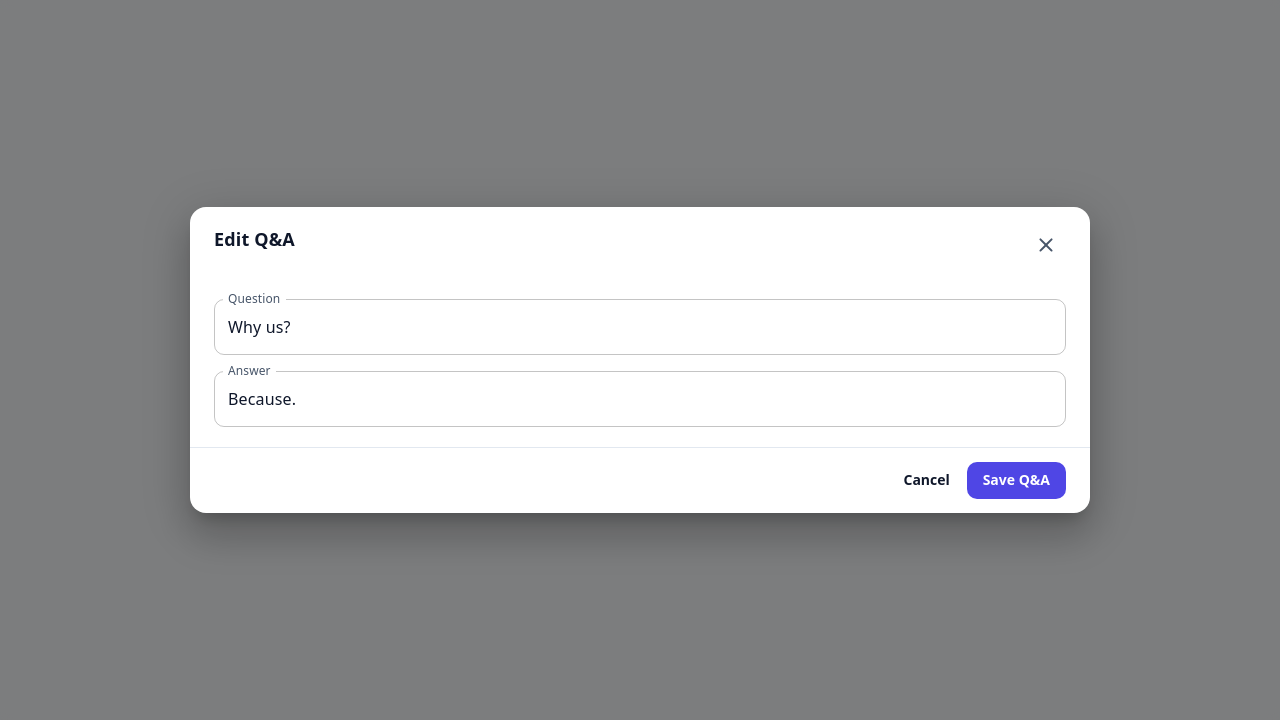
Test case: Q&A save › a failed save shows an error and keeps the dialog open
Click the button "Save Q&A": (1016,481) x1=967 y1=462 x2=1066 y2=499
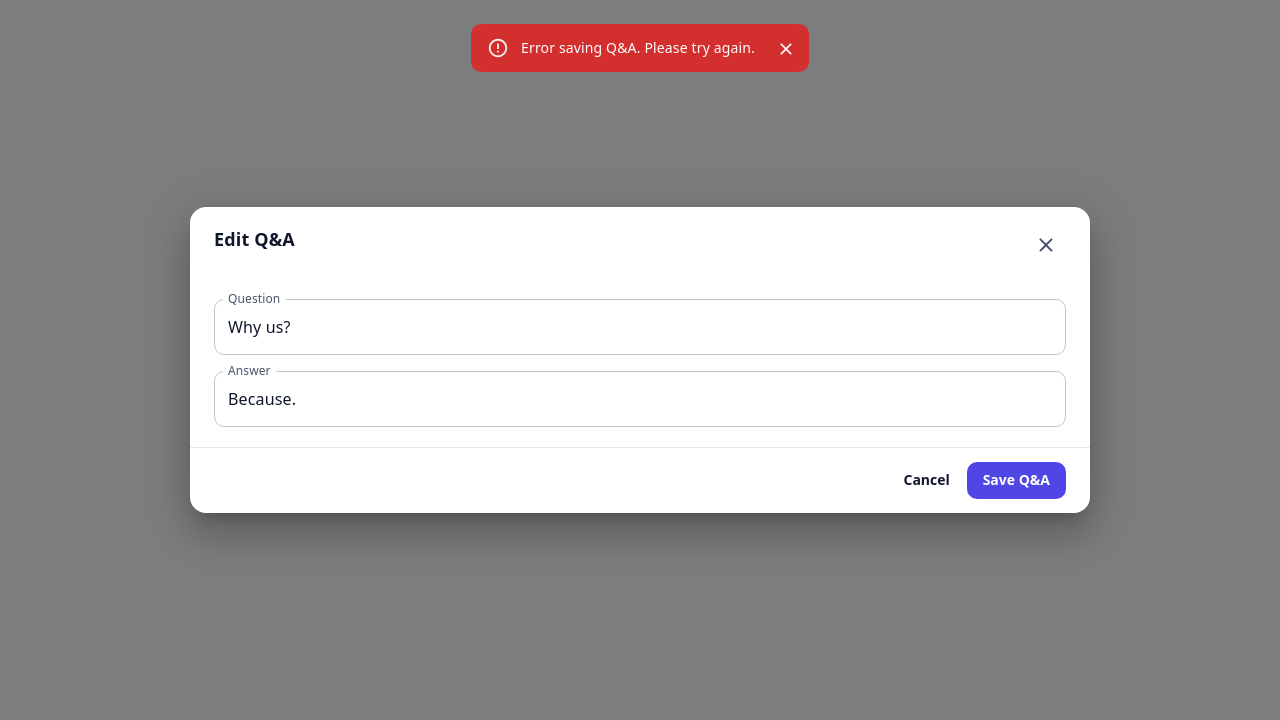
Result: the text "Error saving Q&A. Please try again." is shown at x1=521 y1=38 x2=755 y2=57
